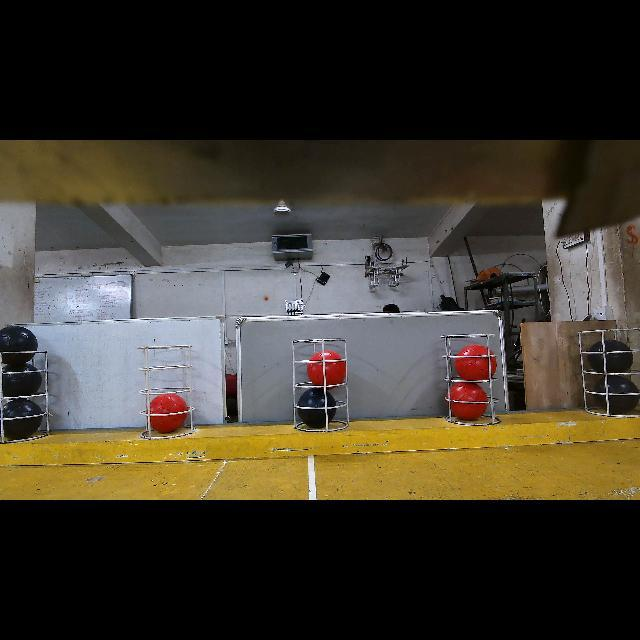P: (3, 398, 45, 438), (594, 375, 639, 412), (298, 388, 336, 428), (588, 340, 634, 372), (0, 326, 38, 364), (2, 362, 42, 397)
R: (147, 394, 188, 433), (449, 383, 487, 421), (456, 345, 497, 380), (307, 351, 346, 385)
S: (439, 331, 503, 427), (576, 327, 640, 419), (138, 344, 198, 440), (291, 338, 351, 434), (0, 349, 50, 445)
